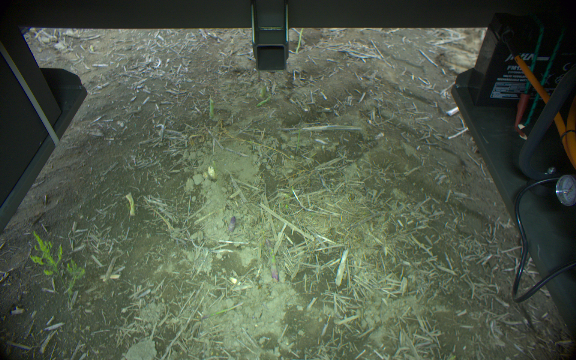aspa: (264, 237, 279, 283), (207, 96, 215, 120)
